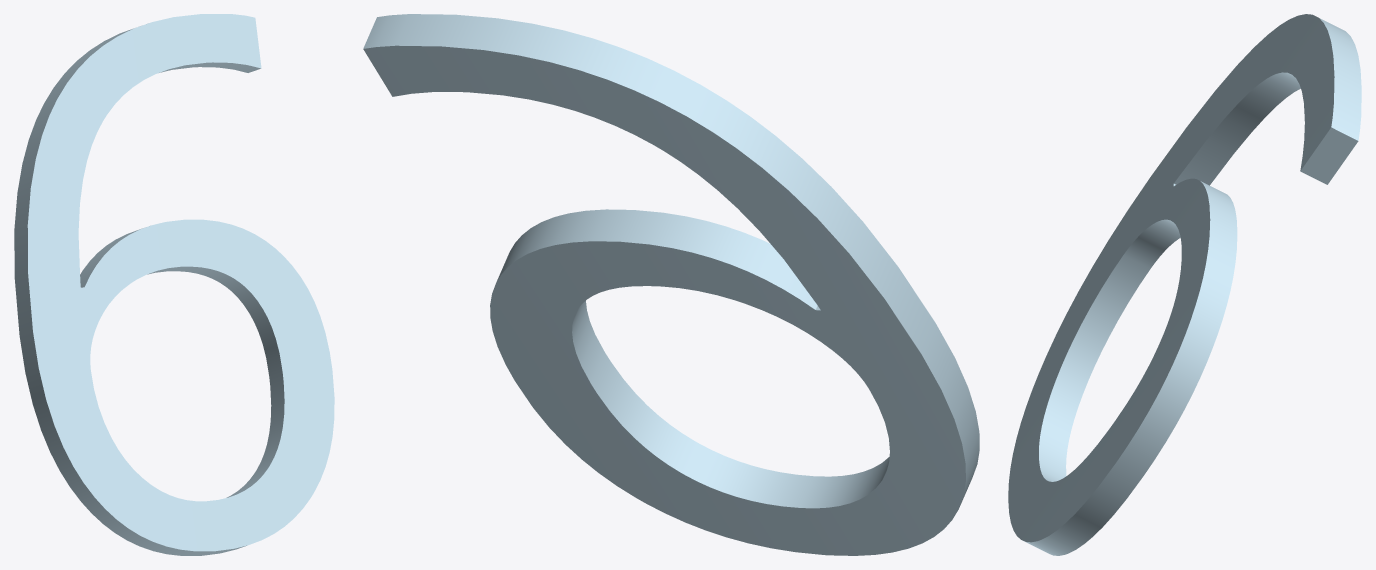
Rendered from Number_6.gltf.
The picture shows the model from 3 angles, left to right: view 1: azimuth 30°, elevation 25°; view 2: azimuth 150°, elevation 25°; view 3: azimuth 270°, elevation 25°; orthographic projection. The views are drawn at different scales.
Visible parts, largest first — view 1: Sub_3_Cell_1_3_Number_6; view 2: Sub_3_Cell_1_3_Number_6; view 3: Sub_3_Cell_1_3_Number_6.
Part boxes in pixels (<box>): Sub_3_Cell_1_3_Number_6: <box>14,14,334,555</box>; Sub_3_Cell_1_3_Number_6: <box>363,14,979,555</box>; Sub_3_Cell_1_3_Number_6: <box>1008,14,1361,555</box>.
Size of the model in its own units: 0.0168 by 0.0227 by 0.014.
